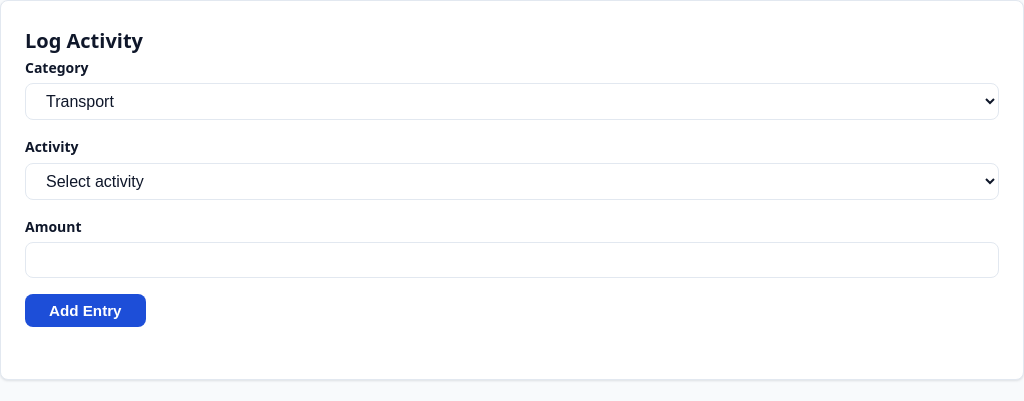
Test: ActivityForm › submits correctly with valid input
The width and height of the screenshot is (1024, 401).
Select "car" in the dropdown labelled "Activity" at [512, 181], box [25,163,999,200]
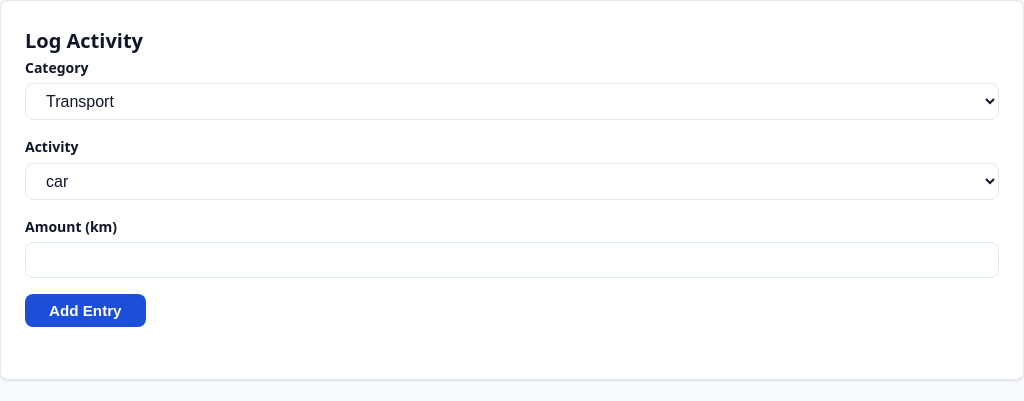
Type "50" into the number field labelled "Amount (km)".
click(512, 260); type("50")  # box [25,242,999,278]
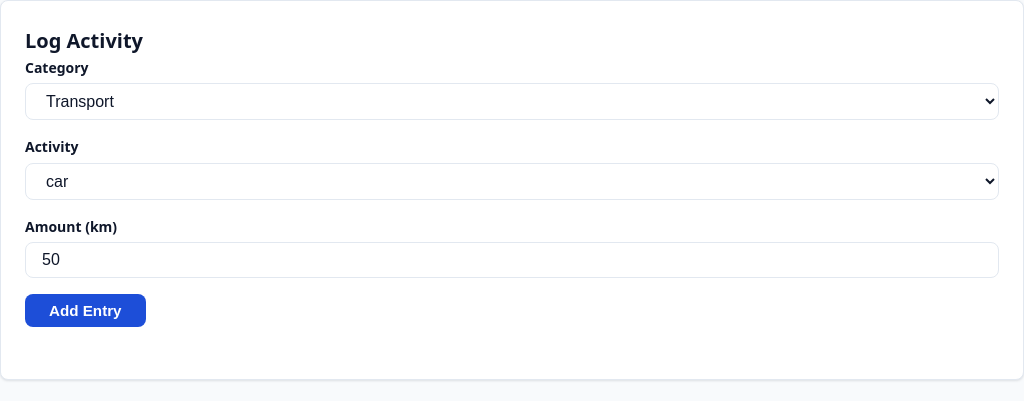
Click the button "Add Entry".
click(85, 311)  # box [25,294,146,327]
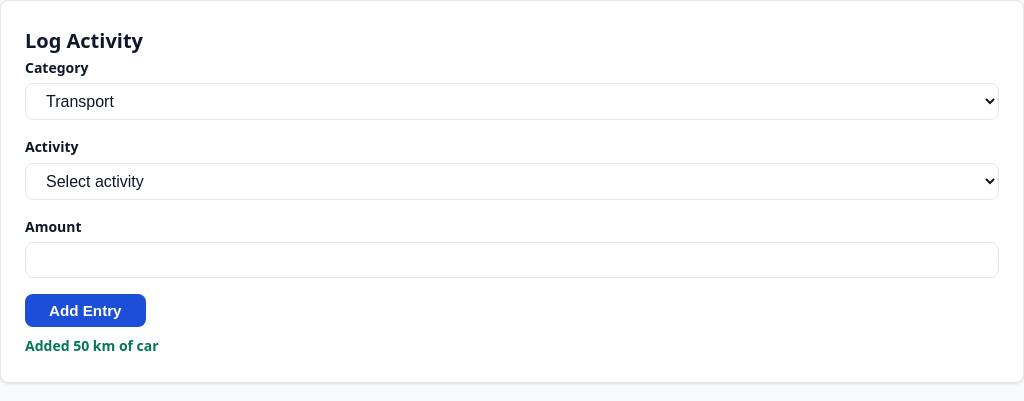
Check: the text "Added 50 km of car" is shown, box [25,336,159,355]
